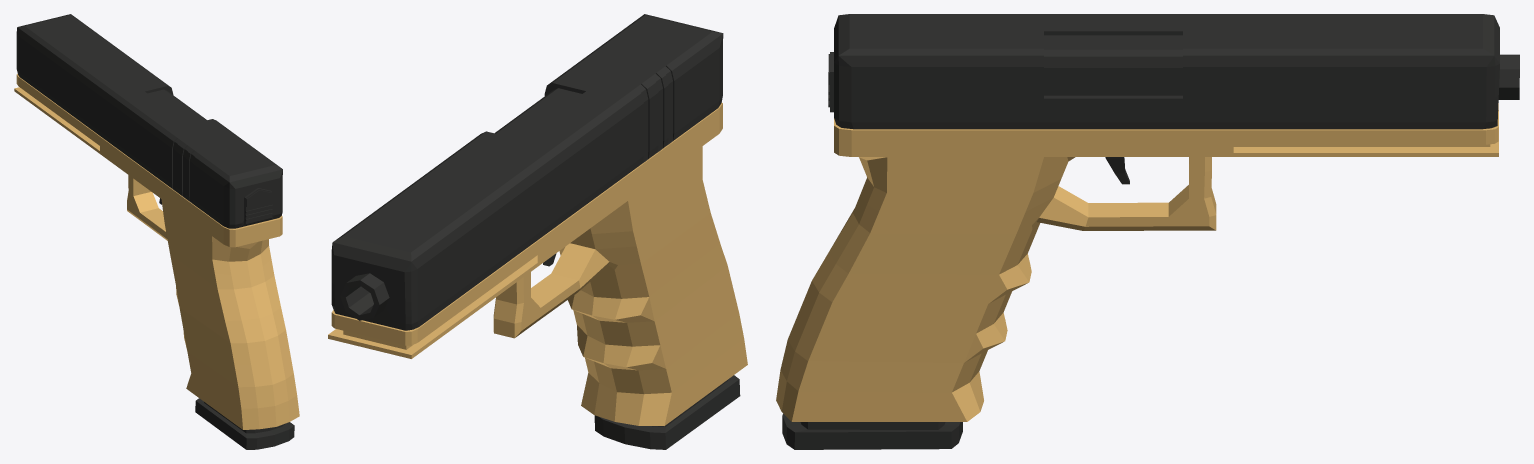
File: Glock.fbx
3 renders of one model, left to right at view 1: azimuth 30°, elevation 25°; view 2: azimuth 150°, elevation 25°; view 3: azimuth 270°, elevation 25°, orthographic. The views are drawn at different scales.
Parts seen in each view (by area): view 1: Gun; view 2: Gun; view 3: Gun.
Boxes of the visible parts, <box> form: Gun: <box>14,14,299,449</box>; Gun: <box>328,14,747,449</box>; Gun: <box>776,14,1519,449</box>.
Size of the model in its own units: 3.08 by 13.51 by 22.63.
